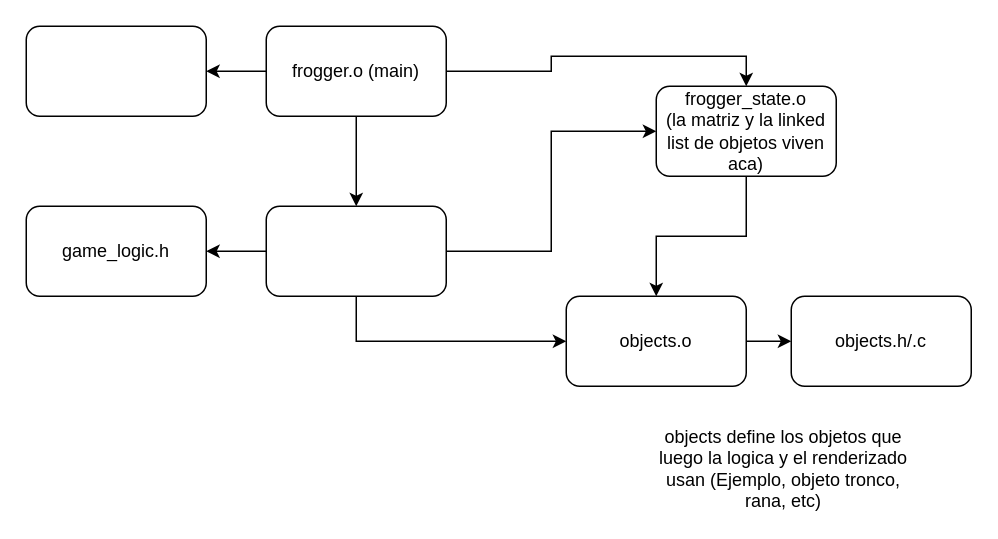
The diagram is 998 pixels wide and 539 high, and some of its shapes have lost their labels. Each missing label, with the centre of its shape:
frogger.c: the point at 115,70
game_logic.o: the point at 355,250
